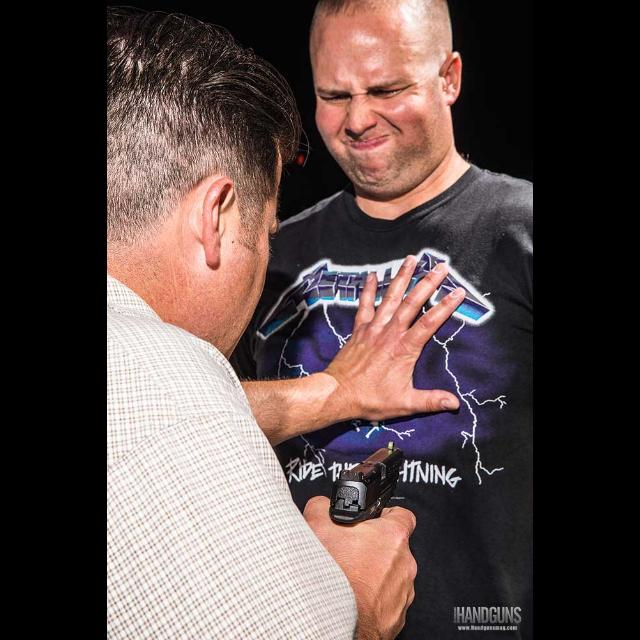handgun: (328, 437, 408, 528)
